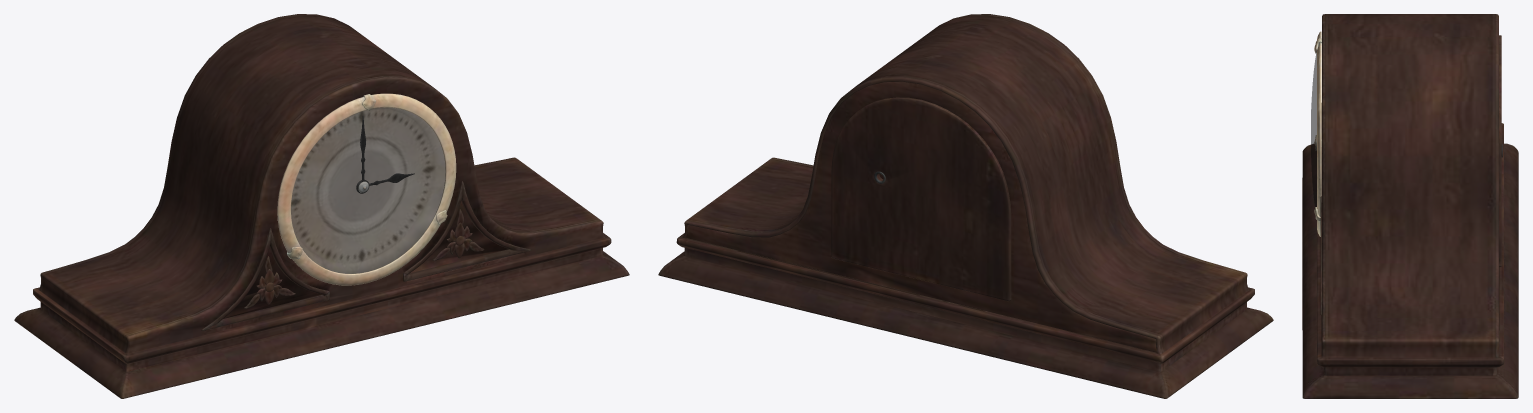
File: mantel_clock_01.glb
3 renders of one model, left to right at view 1: azimuth 30°, elevation 25°; view 2: azimuth 150°, elevation 25°; view 3: azimuth 270°, elevation 25°, orthographic.
Parts seen in each view (by area): view 1: mantel_clock_01, mantel_clock_01_glass; view 2: mantel_clock_01; view 3: mantel_clock_01, mantel_clock_01_glass.
Boxes of the visible parts, x1,y1,x2,y2 form: mantel_clock_01: [14, 14, 629, 398]; mantel_clock_01_glass: [291, 108, 445, 273]; mantel_clock_01: [658, 14, 1273, 398]; mantel_clock_01: [1302, 14, 1518, 398]; mantel_clock_01_glass: [1311, 53, 1316, 207].
Bounding box in the file's own units: 0.3423 × 0.1605 × 0.1262.
2 materials, 2 textured.
